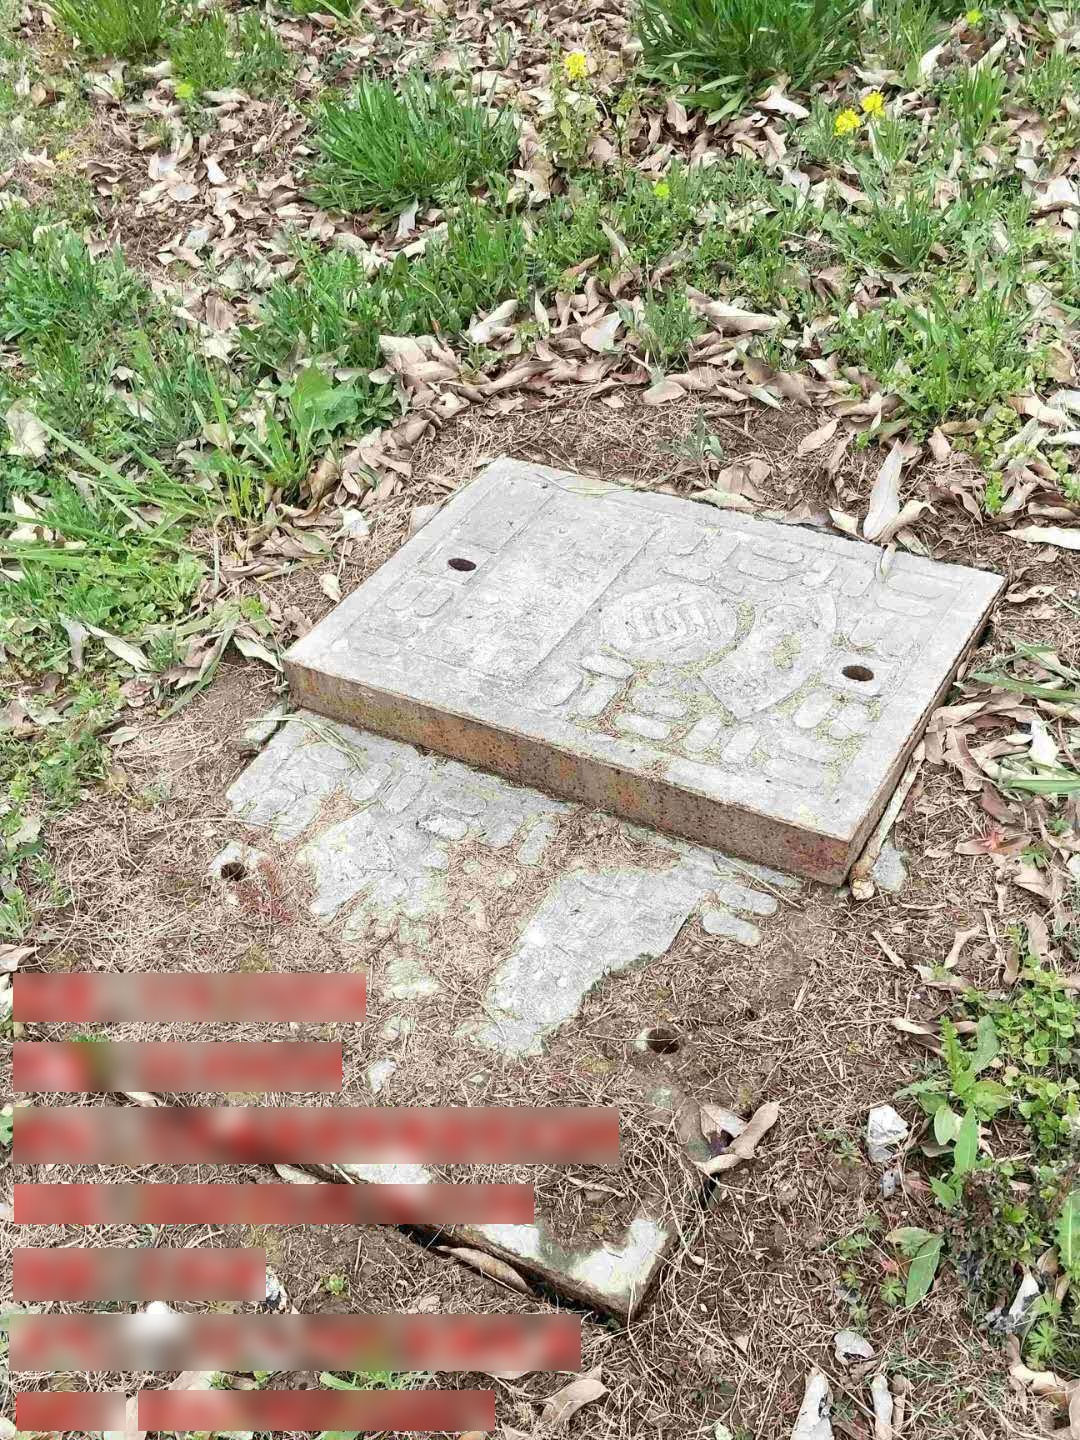uncovered: (32, 447, 999, 1308)
